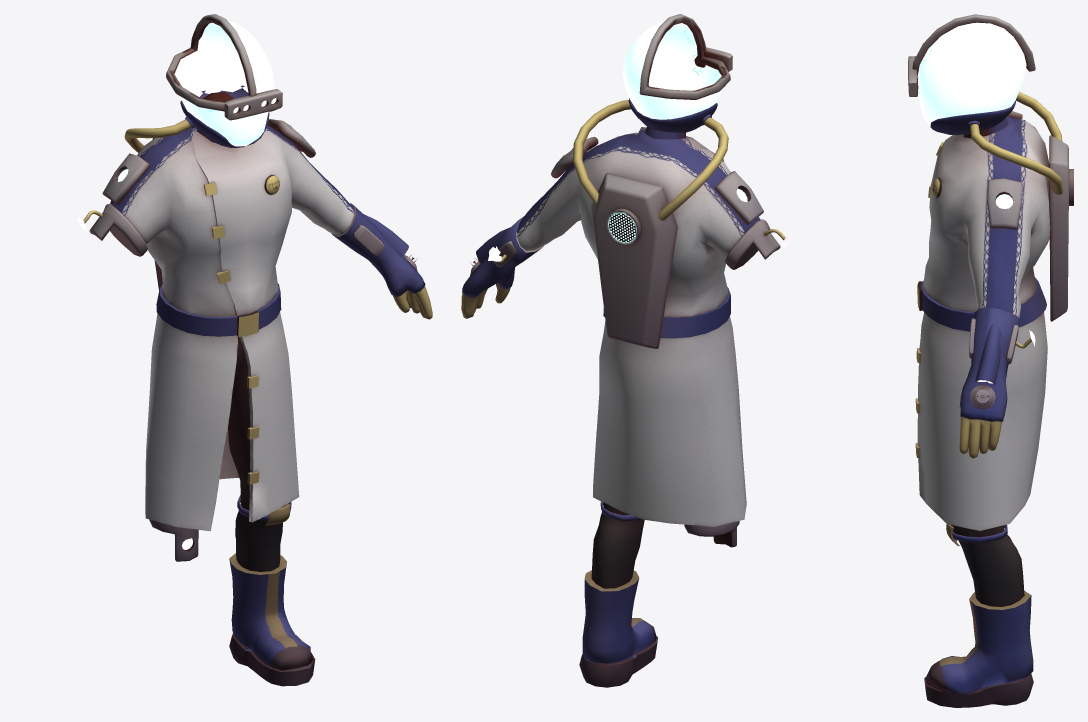
File: Rifter_Final_Model.fbx
3 views of the same model, side by side, from view 1: azimuth 30°, elevation 25°; view 2: azimuth 150°, elevation 25°; view 3: azimuth 270°, elevation 25° (orthographic).
Visible parts, largest first — view 1: Rifter_MainBody; view 2: Rifter_MainBody; view 3: Rifter_MainBody.
Part boxes in pixels (bbox=[...]): Rifter_MainBody: bbox=[77, 14, 432, 686]; Rifter_MainBody: bbox=[461, 14, 791, 687]; Rifter_MainBody: bbox=[908, 14, 1073, 707].
Size of the model in its own units: 129 by 199 by 45.46.
